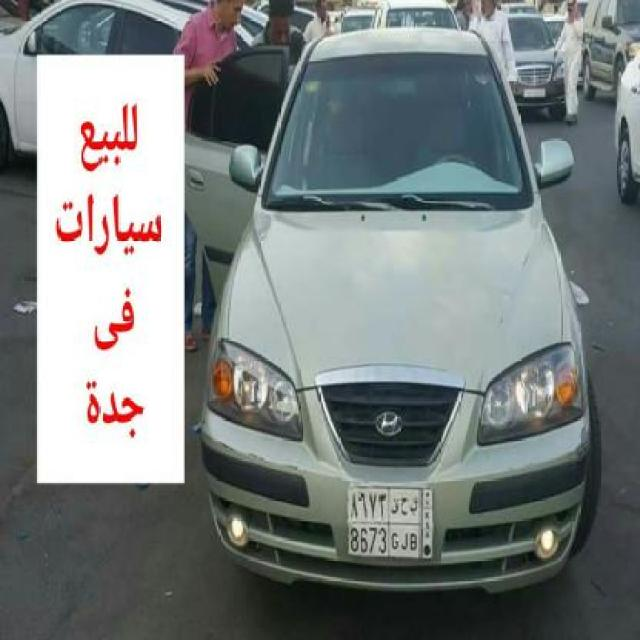license_plate: (346, 483, 436, 562)
